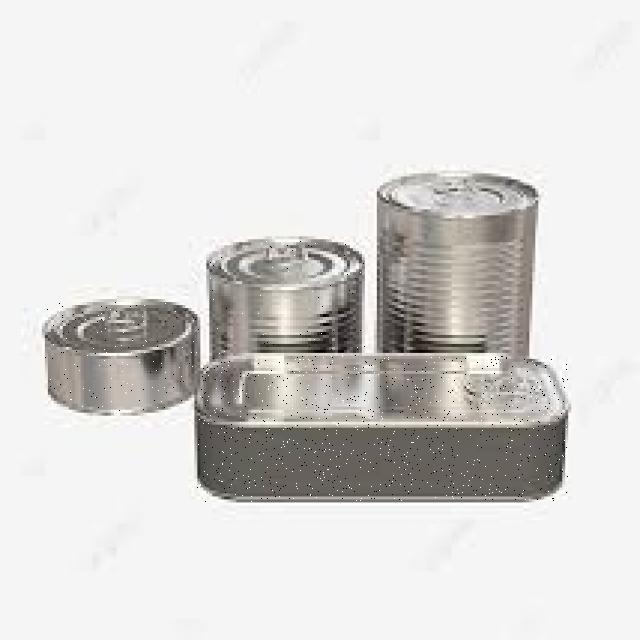metal: (198, 356, 568, 502), (380, 174, 538, 357), (206, 240, 365, 360), (45, 302, 200, 411)
